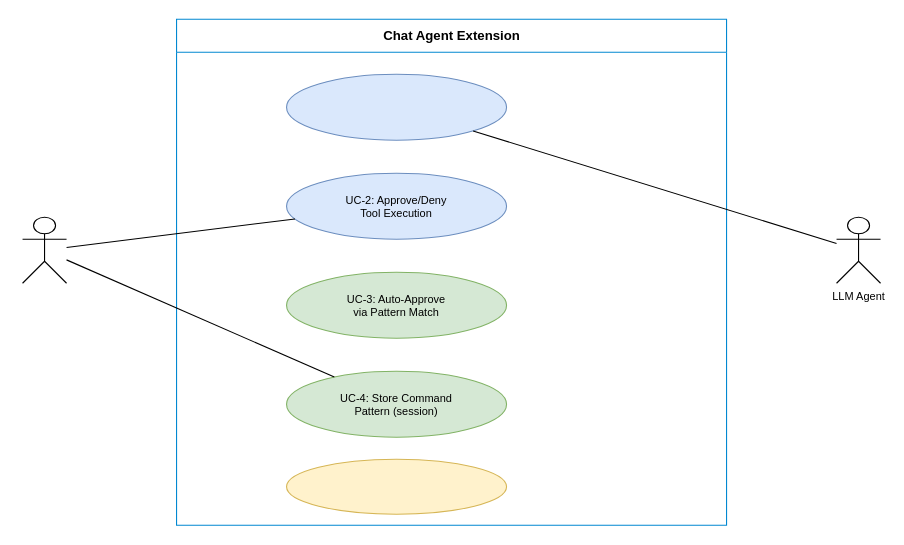
This 904x545 diagram has some shape labels left out. The centre of each missing label's shape, as x and y in pixels:
"Developer" belongs at point 44,249.
"UC-1: Execute Shell Command" belongs at point 396,106.
"UC-5: Suggest Pattern from Command" belongs at point 396,486.
